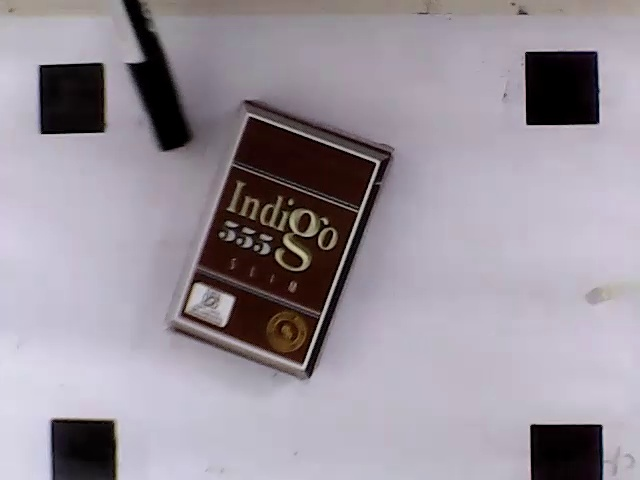BEX: (176, 116, 376, 368)
